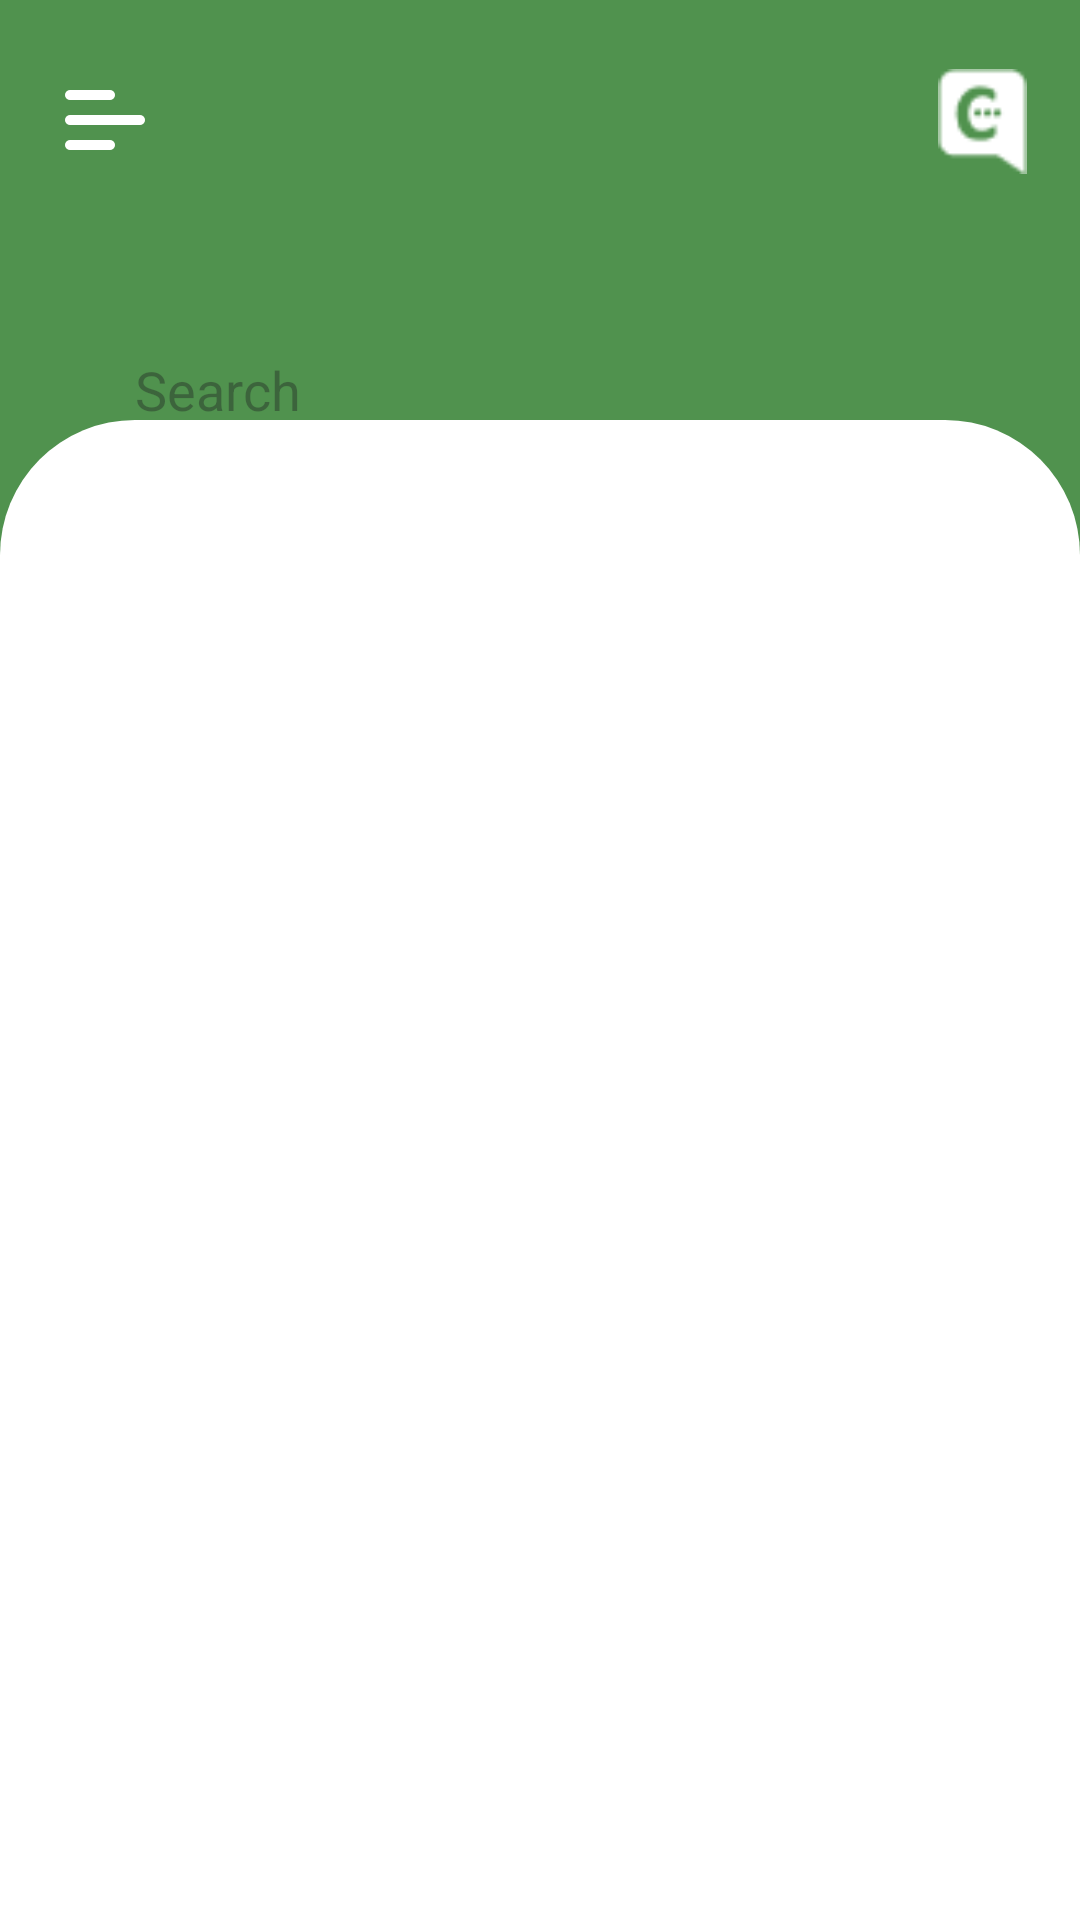

Locate icon controls on the screen. Image size 1080×1920, boxes as (x1, y1, x2, y2).
menu: (65, 90, 145, 150)
